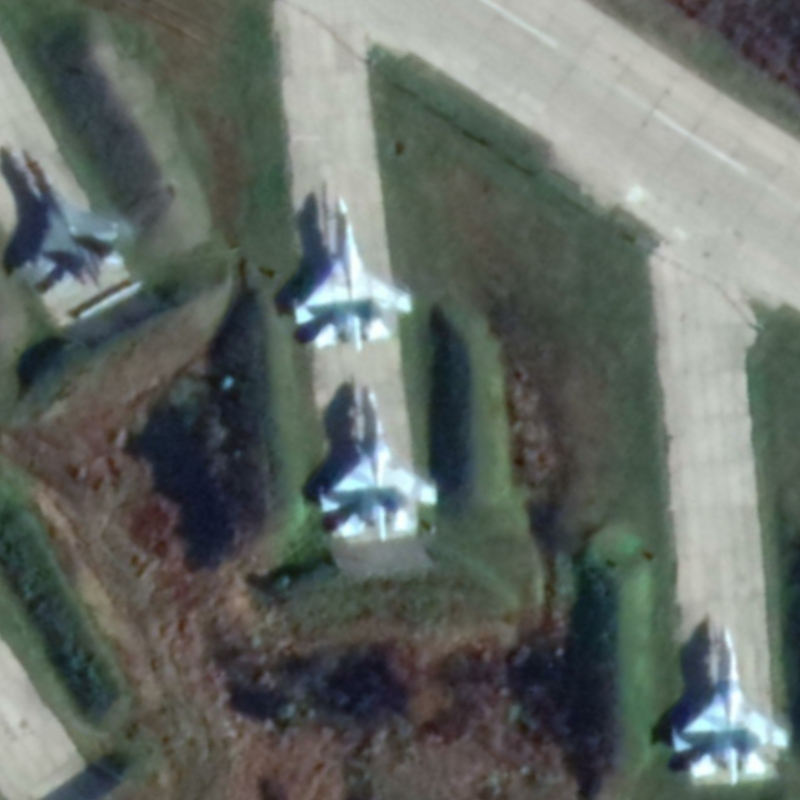A1: (313, 383, 441, 547), (666, 622, 792, 788), (288, 193, 416, 354), (13, 142, 140, 299)
